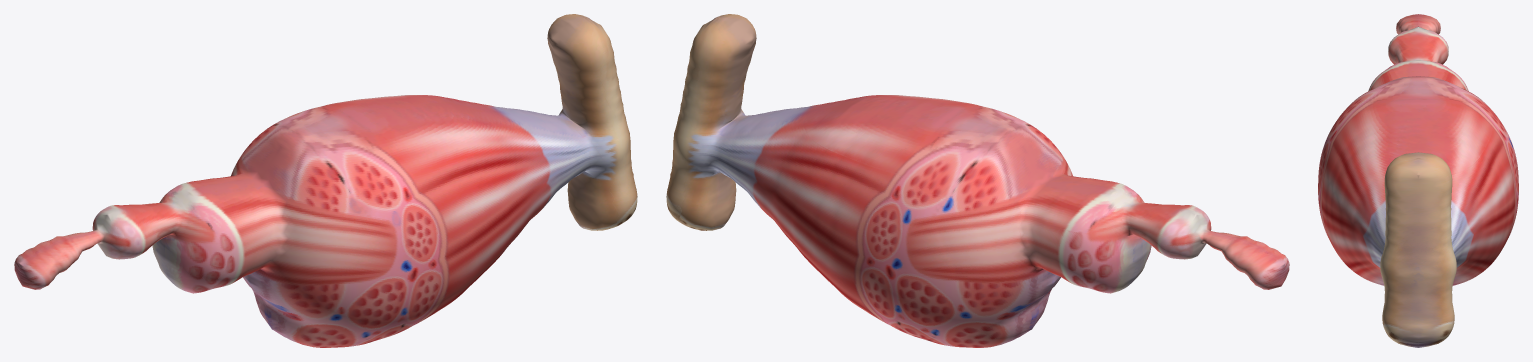
Rendered from muscles.glb.
3 renders of one model, left to right at view 1: azimuth 30°, elevation 25°; view 2: azimuth 150°, elevation 25°; view 3: azimuth 270°, elevation 25°, orthographic. The views are drawn at different scales.
Parts seen in each view (by area): view 1: root_Material_100_0; view 2: root_Material_100_0; view 3: root_Material_100_0.
Boxes of the visible parts, <box> form: root_Material_100_0: <box>14,14,637,347</box>; root_Material_100_0: <box>666,14,1289,347</box>; root_Material_100_0: <box>1318,14,1518,347</box>.
Size of the model in its own units: 1.1 by 0.4445 by 0.3661.
Materials: 1 (1 with a texture image).
